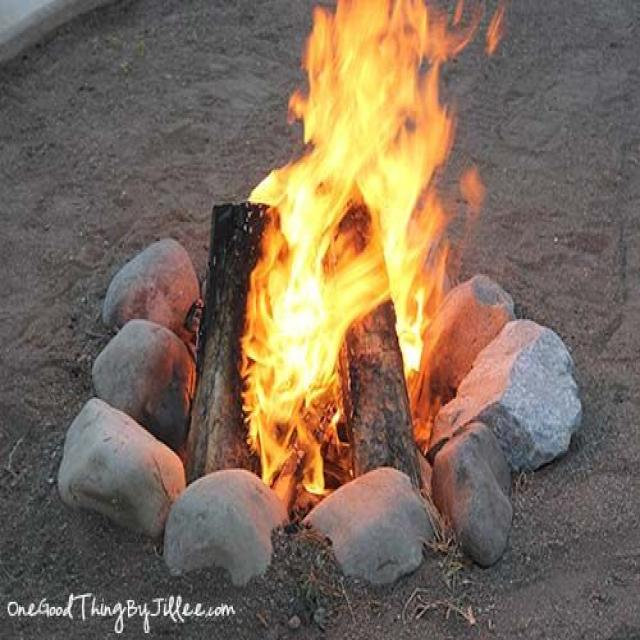fire: (246, 0, 488, 493)
